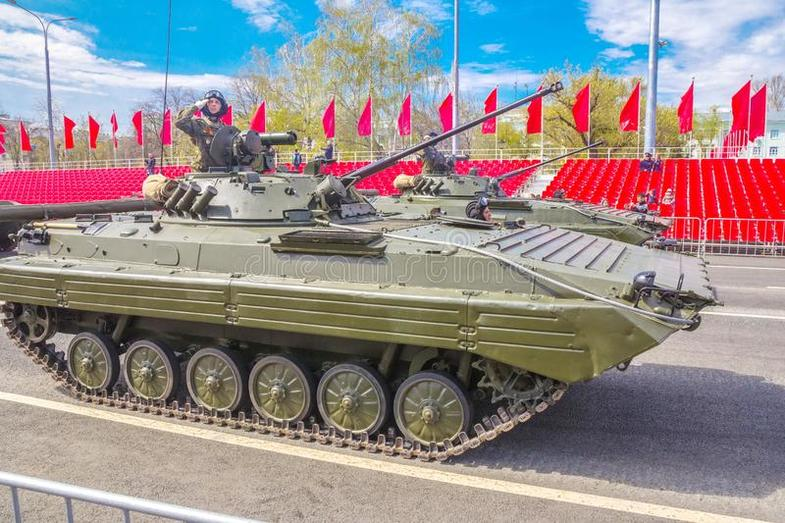bmp: (18, 165, 711, 464)
